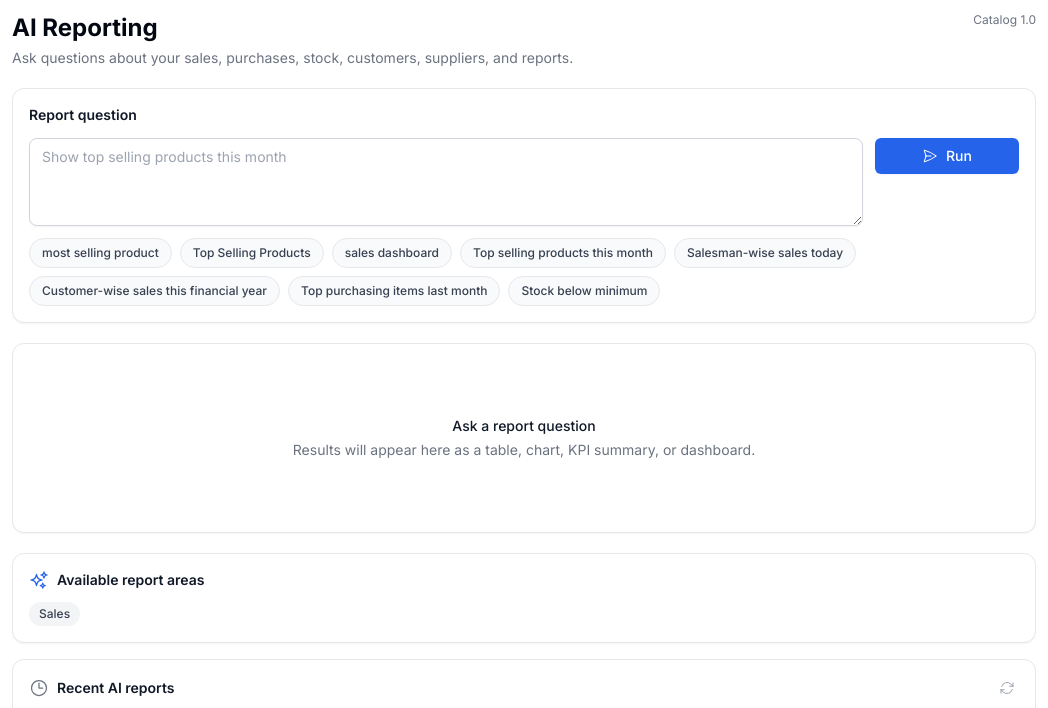
Test case: AiReporting page › validates empty input and prevents duplicate invalid submission
Click the button "Run".
click(947, 156)  # box [875, 138, 1019, 174]
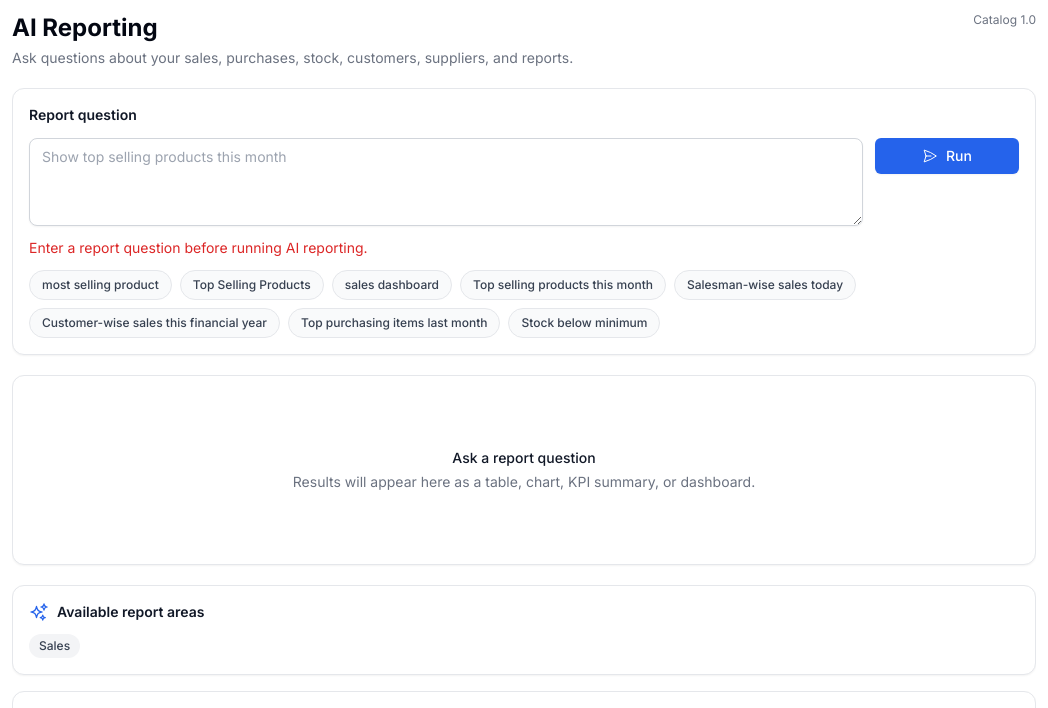
Result: the text "Enter a report question before running AI reporting." is shown at [29, 238, 368, 256]
